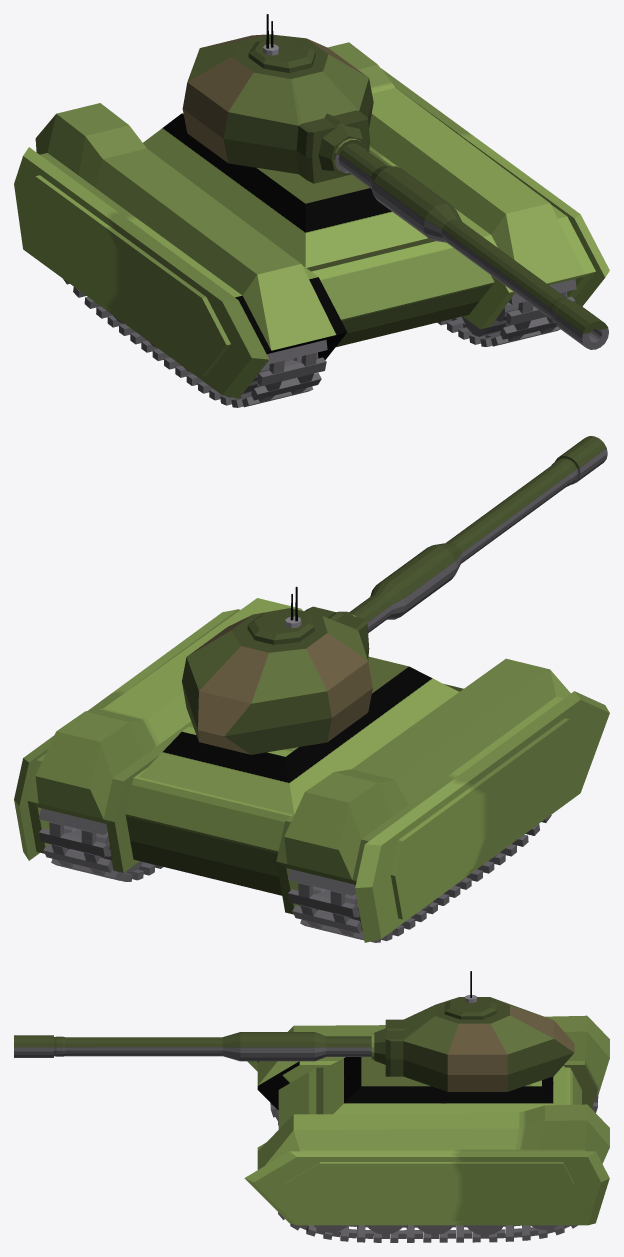
Rendered from tank.glb.
3 views of the same model, one above another, from view 1: azimuth 30°, elevation 25°; view 2: azimuth 150°, elevation 25°; view 3: azimuth 270°, elevation 25° (orthographic). The views are drawn at different scales.
Parts seen in each view (by area): view 1: Cube.001, Cube, Cube.003, Cylinder, Cube.002, Cube.004; view 2: Cube.001, Cube, Cube.003, Cylinder, Cube.002, Cube.004; view 3: Cube.001, Cube.003, Cube, Cylinder, Cube.004.
Boxes of the visible parts, x1,y1,x2,y2 form: Cube.001: (14, 42, 609, 398); Cube: (143, 113, 494, 346); Cube.003: (182, 14, 373, 183); Cylinder: (333, 138, 608, 349); Cube.002: (63, 279, 327, 407); Cube.004: (437, 279, 576, 346); Cube.001: (14, 598, 609, 942); Cube: (125, 656, 463, 895); Cube.003: (182, 586, 372, 754); Cylinder: (349, 436, 607, 632); Cube.002: (288, 815, 551, 942); Cube.004: (39, 808, 163, 881); Cube.001: (244, 1015, 609, 1225); Cube.003: (374, 971, 574, 1091); Cube: (278, 1057, 581, 1129); Cylinder: (14, 1032, 374, 1061); Cube.004: (278, 1212, 577, 1242).
Size of the model in its own units: 7.94 by 5.96 by 15.27.
1 material, 1 textured.
